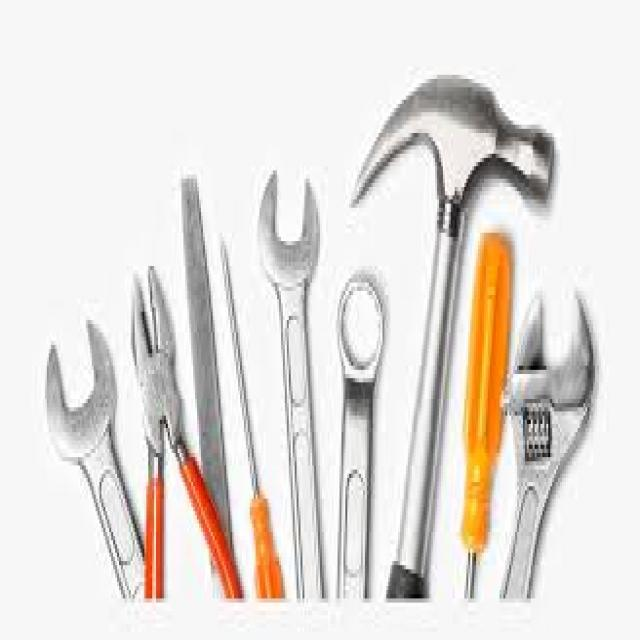hammer: (357, 66, 561, 628)
pliers: (128, 258, 232, 610)
screwdriver: (212, 231, 284, 617), (454, 225, 516, 617)
wrench: (489, 276, 596, 622), (256, 160, 331, 610), (38, 314, 146, 605), (327, 269, 391, 622)
